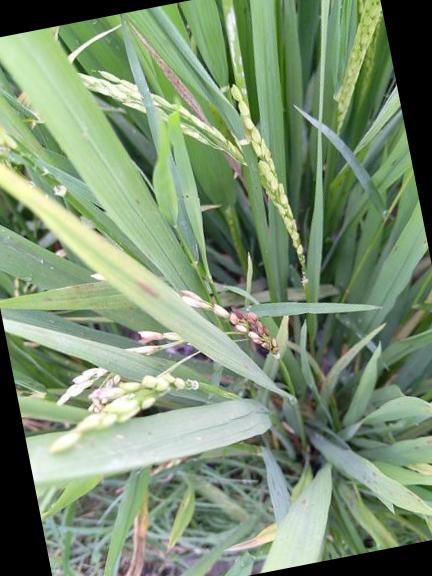Panicle Blight: (231, 307, 278, 358), (136, 332, 162, 344)
